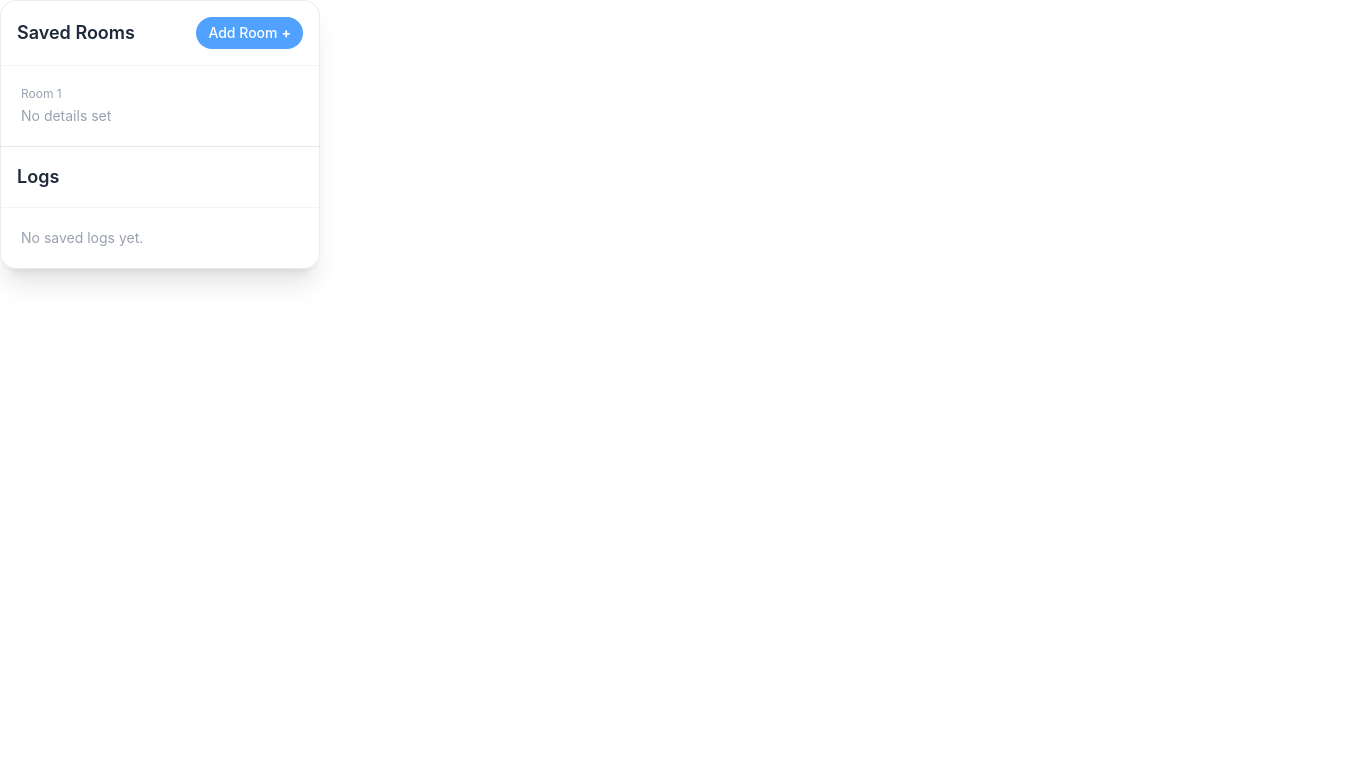
Test case: CASE-023: open a saved room › shows an empty field value as an em dash
Click the text "Room 1" at {"x": 41, "y": 94}, box [21,86,62,101]
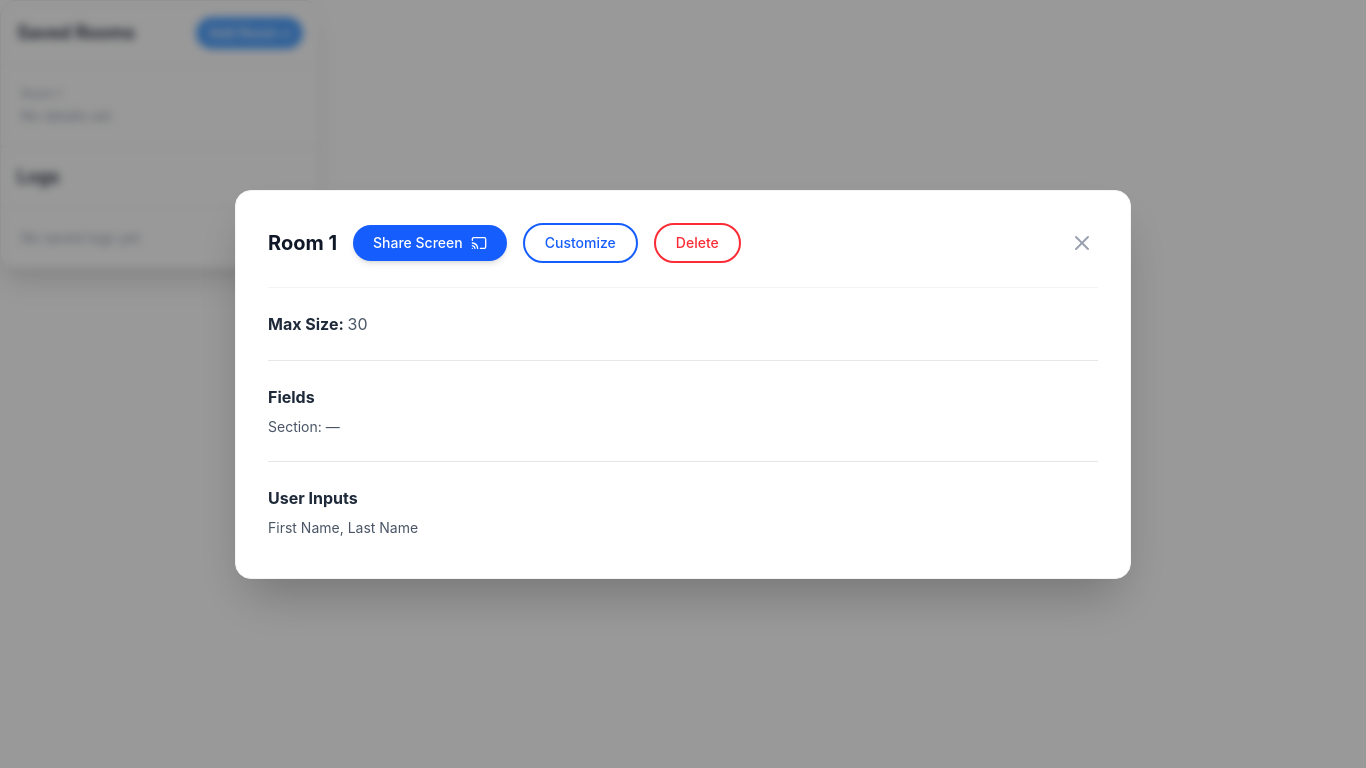
Expected: the heading "Room 1" is shown, [268,228,337,256]
